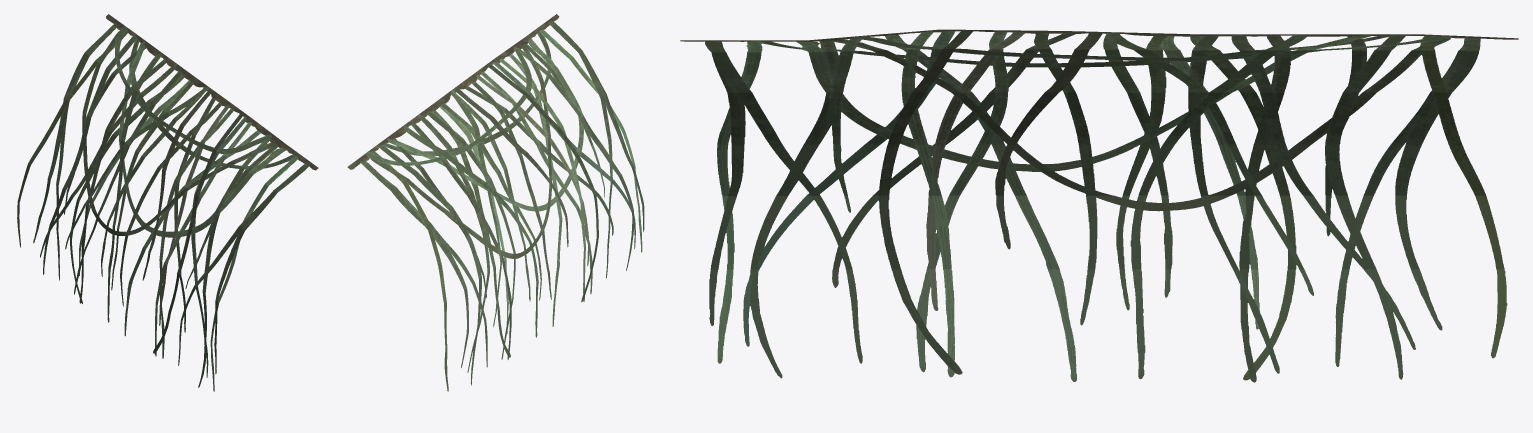
File: lianes_04.FBX
The picture shows the model from 3 angles, left to right: view 1: azimuth 30°, elevation 25°; view 2: azimuth 150°, elevation 25°; view 3: azimuth 270°, elevation 25°; orthographic projection. The views are drawn at different scales.
Parts seen in each view (by area): view 1: Shape001; view 2: Shape001; view 3: Shape001.
Part boxes in pixels (x1=…): Shape001: x1=17, y1=14, x2=318, y2=391; Shape001: x1=347, y1=14, x2=644, y2=391; Shape001: x1=680, y1=29, x2=1518, y2=382.
Bounding box in the file's own units: 196 × 455 × 747.
1 material, 1 textured.
